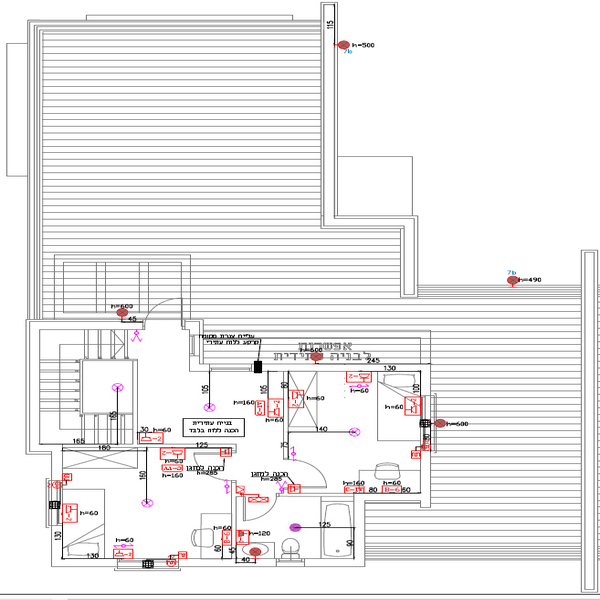door: (141, 294, 186, 333), (284, 459, 330, 492), (193, 449, 235, 485), (242, 493, 283, 527)
room: (26, 319, 203, 451)
wall: (258, 360, 427, 373), (27, 322, 39, 450), (27, 320, 144, 332), (180, 558, 276, 568), (354, 494, 367, 564), (420, 452, 431, 506), (360, 494, 427, 502), (51, 527, 63, 564), (54, 560, 114, 566), (421, 364, 430, 395)
window: (47, 480, 63, 527)
